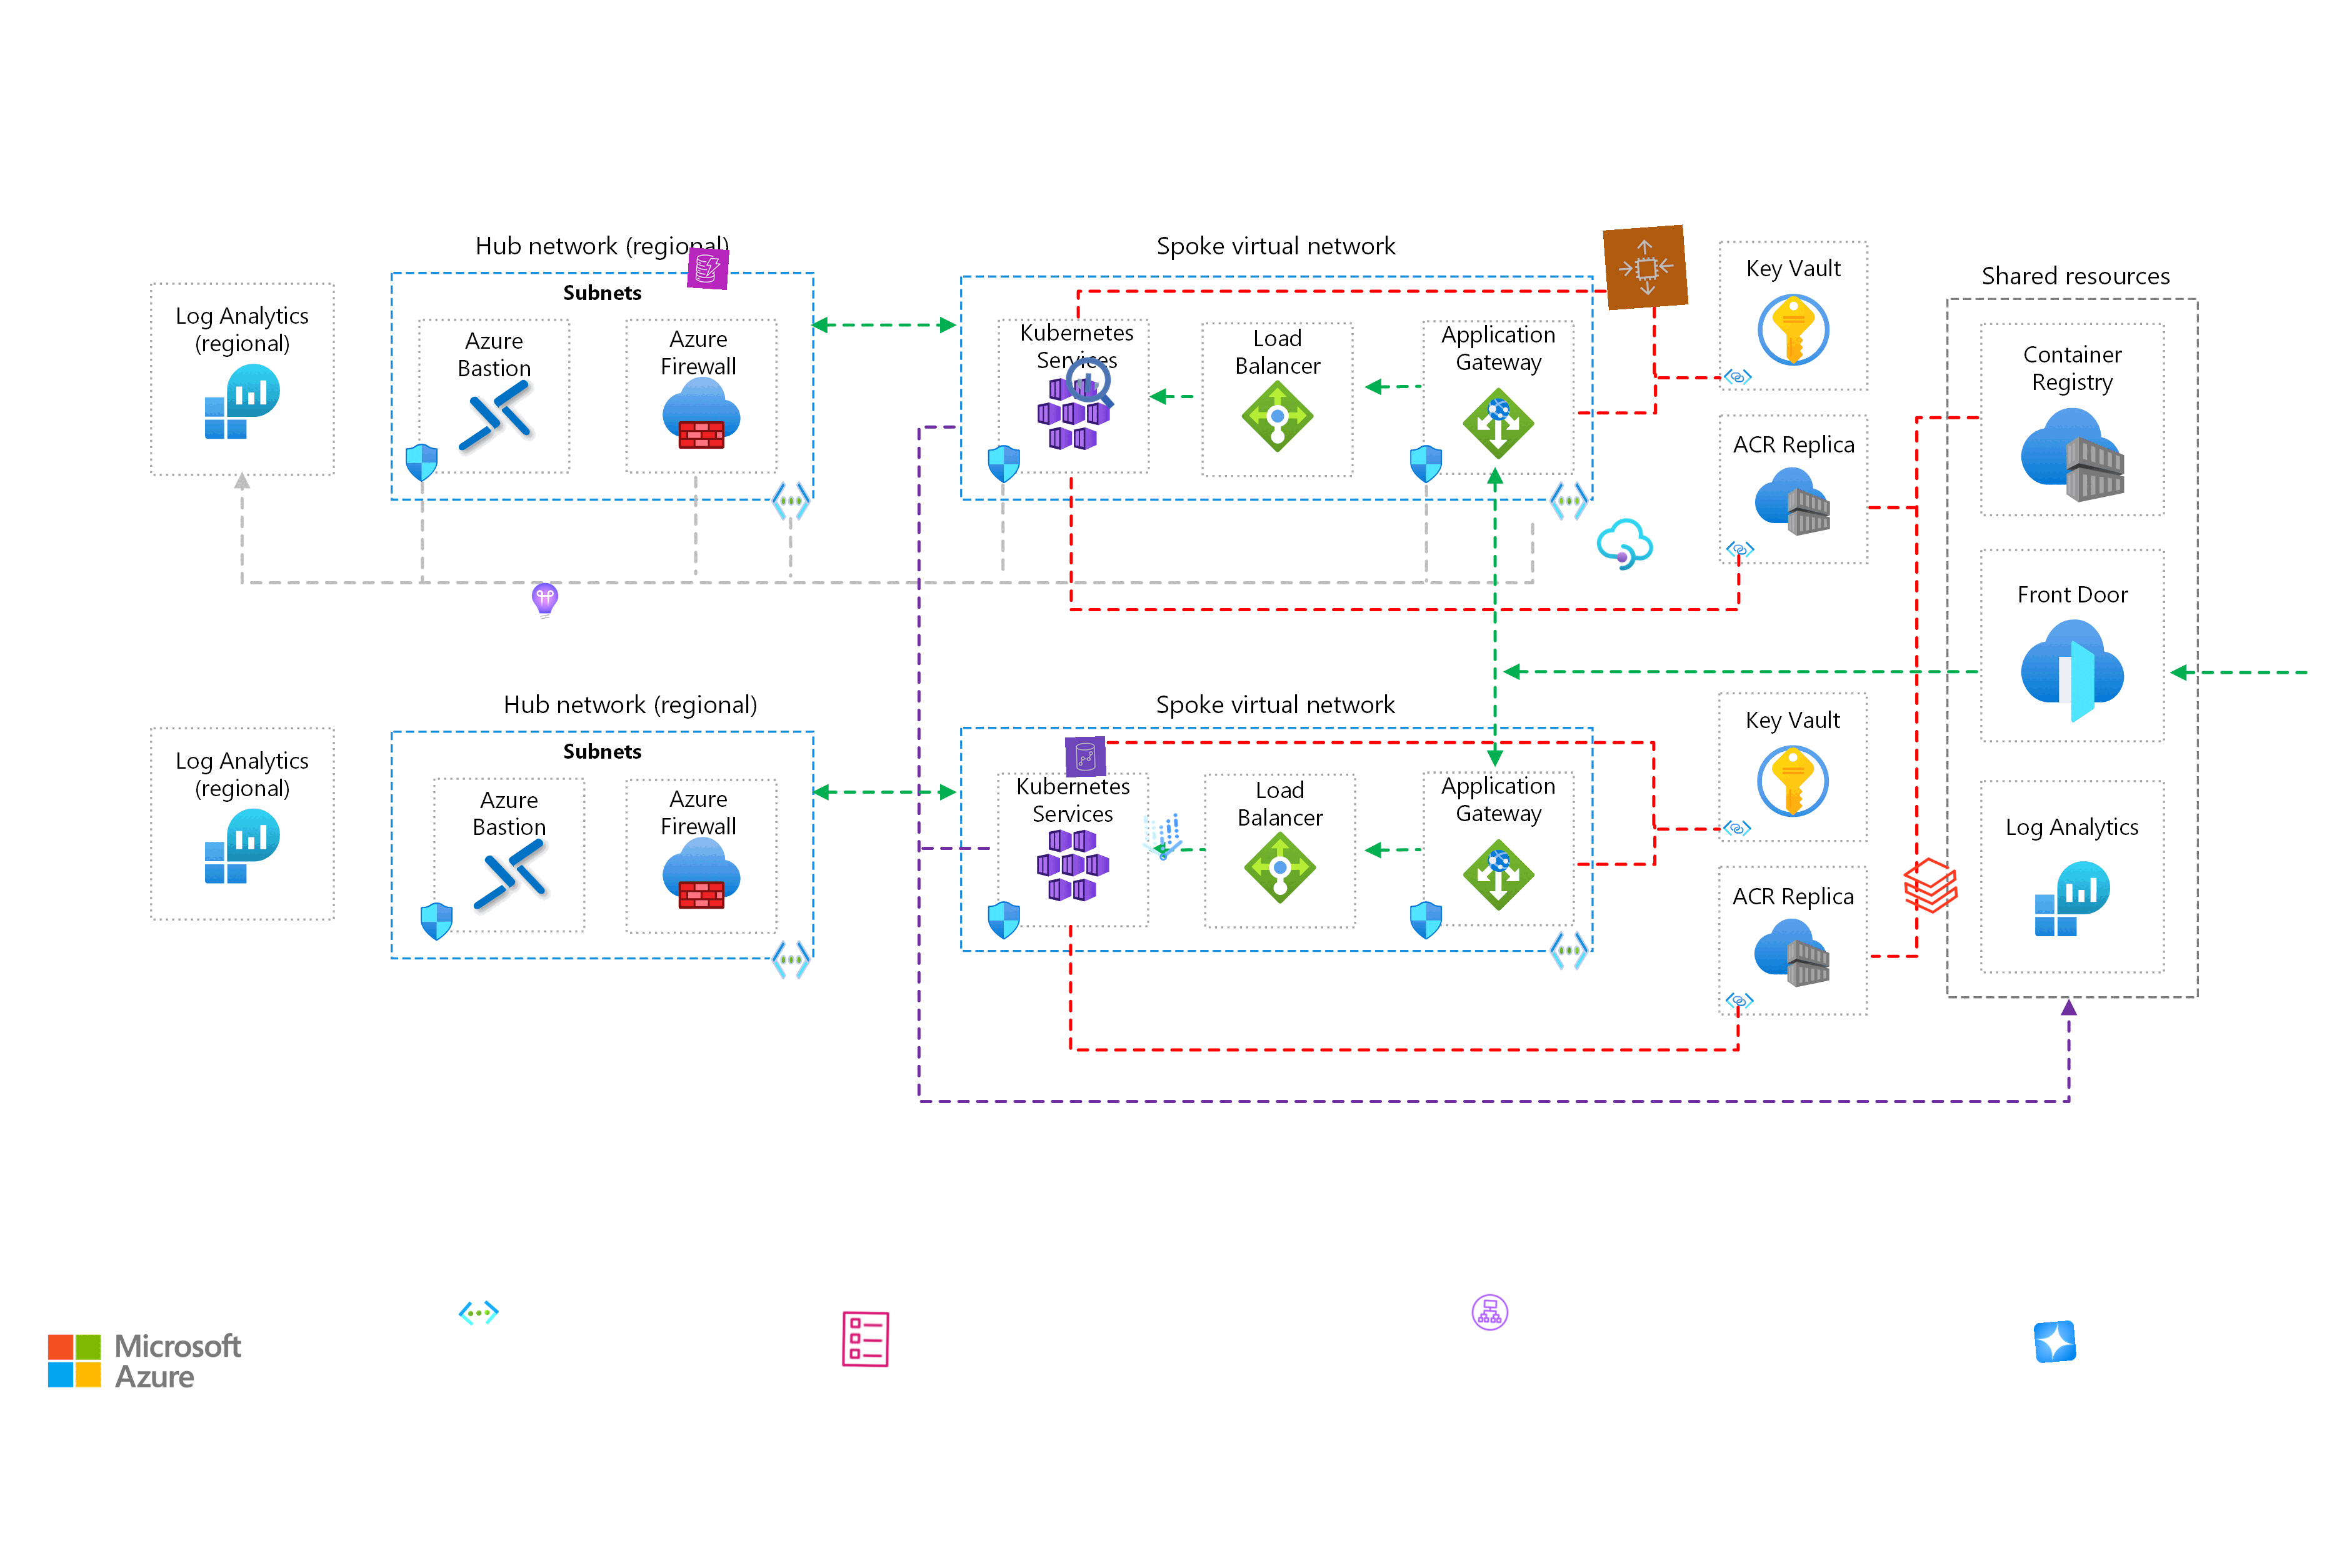aws_amazon_dynamodb: (686, 247, 730, 290)
aws_amazon_ec2_auto_scaling: (1603, 224, 1689, 310)
aws_amazon_redshift: (1064, 735, 1108, 779)
aws_cloudformation_template: (835, 1309, 896, 1370)
aws_elastic_load_balancing_application_load_balancer: (1468, 1291, 1512, 1333)
azure_api_management_services: (1592, 511, 1657, 577)
azure_application_insights: (525, 581, 565, 623)
azure_databricks: (1899, 852, 1963, 919)
azure_openai: (2033, 1319, 2077, 1363)
azure_virtual_networks: (457, 1291, 500, 1335)
gcp_bigquery: (1059, 350, 1122, 415)
gcp_vertex_ai: (1129, 805, 1195, 870)
